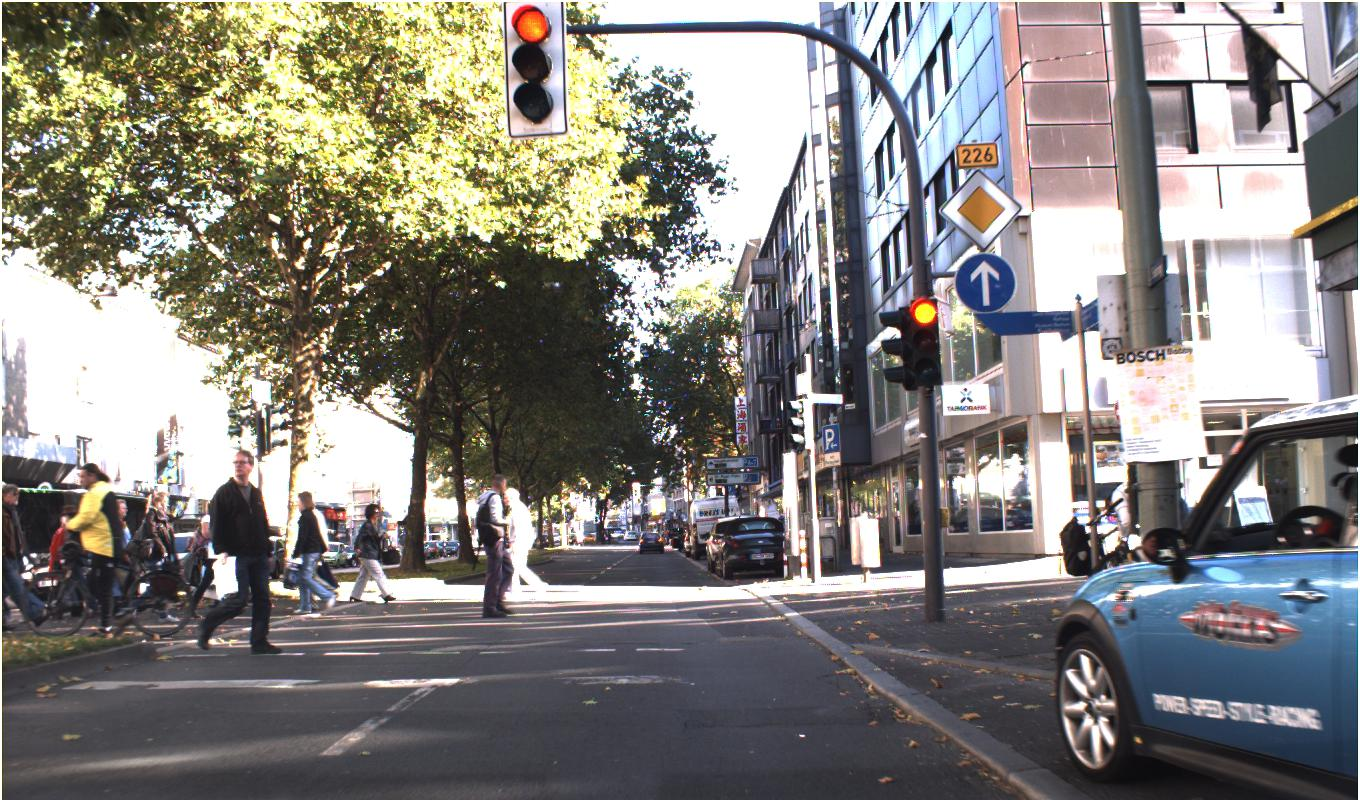mandatory: (953, 252, 1015, 313)
sign: (938, 167, 1022, 251)
